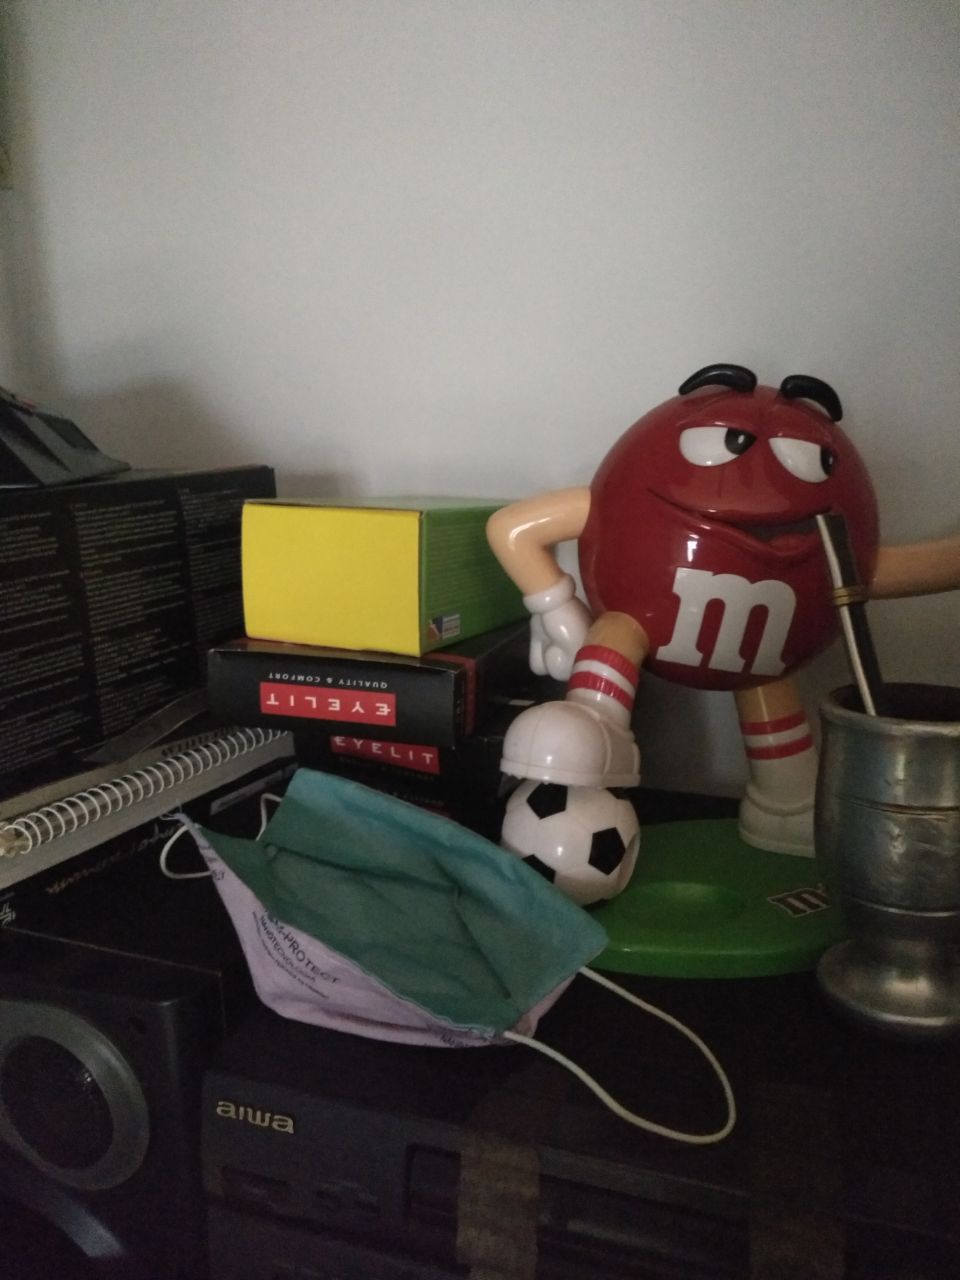mate: (813, 511, 960, 1033)
metal: (811, 509, 958, 1031)
